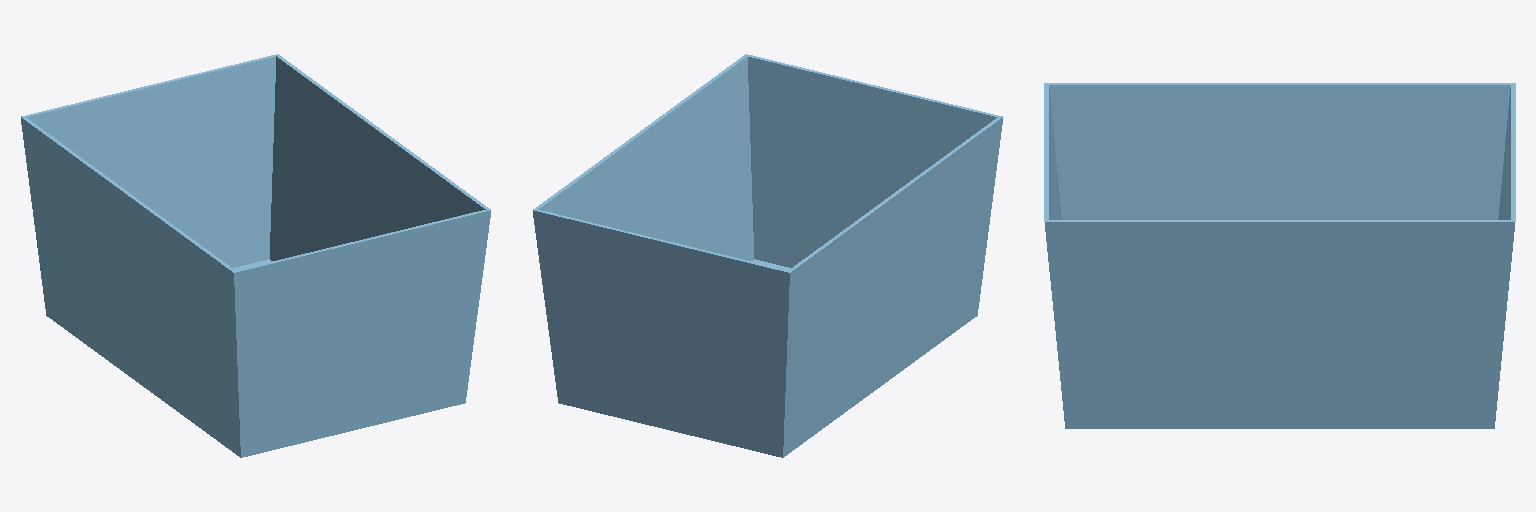
robot.urdf — onshape:
<robot name="onshape">
<link name="bin">
<visual>
<origin xyz="-1.1102230246251565404e-16 5.7245874707234634116e-17 0" rpy="0 -0 0" />
<geometry>
<mesh filename="package://urdf/bin/bin.stl"/>
</geometry>
<material name="bin_material">
<color rgba="0.61568627450980395466 0.81176470588235294379 0.92941176470588238168 1.0"/>
</material>
</visual>
<collision>
<origin xyz="-1.1102230246251565404e-16 5.7245874707234634116e-17 0" rpy="0 -0 0" />
<geometry>
<mesh filename="package://urdf/bin/bin.stl"/>
</geometry>
</collision>
<inertial>
<origin xyz="0 0 0" rpy="0 0 0"/>
<mass value="0" />
<inertia ixx="0" ixy="0"  ixz="0" iyy="0" iyz="0" izz="0" />
</inertial>
</link>


</robot>

--- Facts derived from the render (not from the file) ---
3 views of the same robot in one strip: view 1: azimuth 30°, elevation 25°; view 2: azimuth 150°, elevation 25°; view 3: azimuth 270°, elevation 25° (orthographic).
Model onshape with 1 links and 0 joints (none), rooted at bin, posed every joint at zero.
Links seen in each view (by area): view 1: bin; view 2: bin; view 3: bin.
Boxes of the visible links, box(x1,y1,x2,y2) form: bin: box(21, 54, 490, 457); bin: box(533, 54, 1002, 457); bin: box(1044, 83, 1515, 428).
Bounding box of the posed robot: 1.38 × 1.98 × 1 m (x, y, z).
1 mesh visuals loaded from 1 distinct referenced files (1 binary STL).